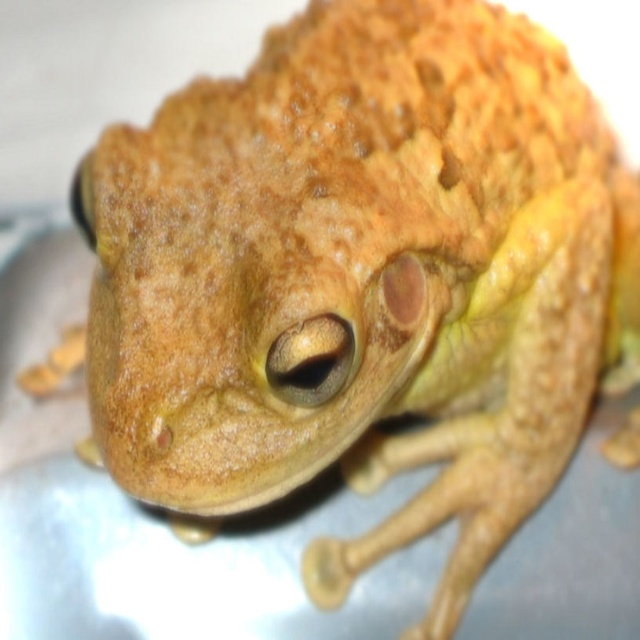Frog: (18, 0, 639, 639)
